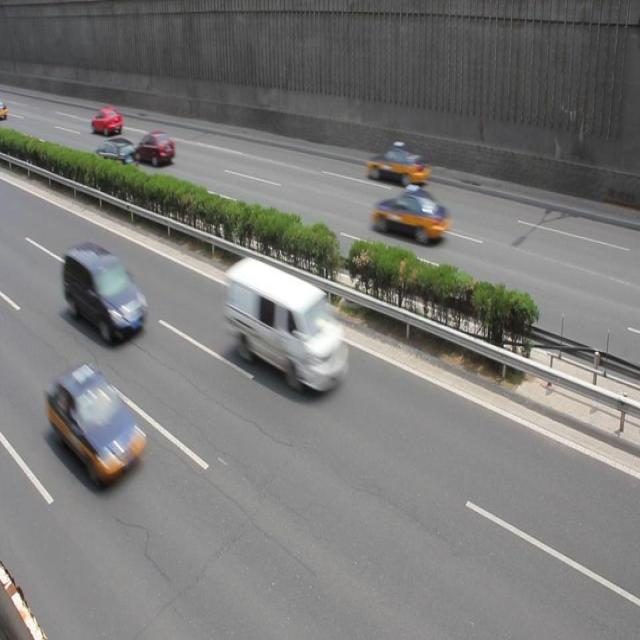car: (47, 362, 149, 488), (371, 186, 449, 243), (366, 142, 428, 188), (92, 137, 139, 177), (136, 132, 176, 168), (92, 108, 123, 140)
truck: (226, 255, 351, 394), (63, 242, 148, 346)
